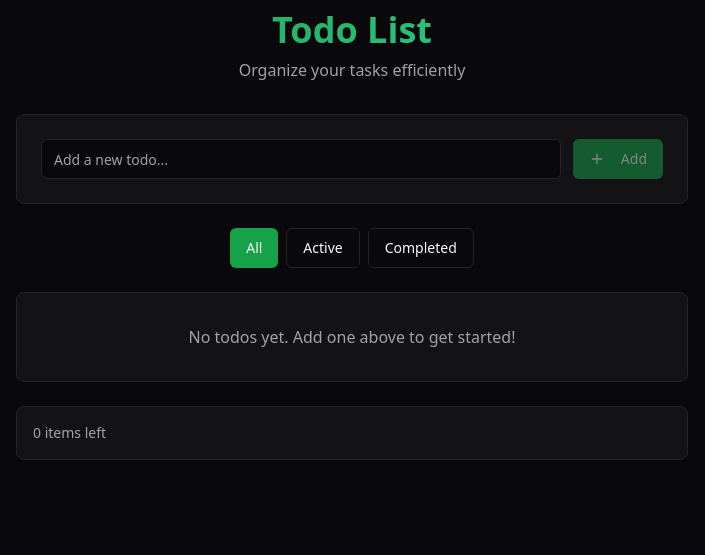
Test: TodoApp › should filter todos by status
Type "Active todo" into the field with placeholder "Add a new todo..." at (301, 159), box [41,139,561,179]
Then press Enter
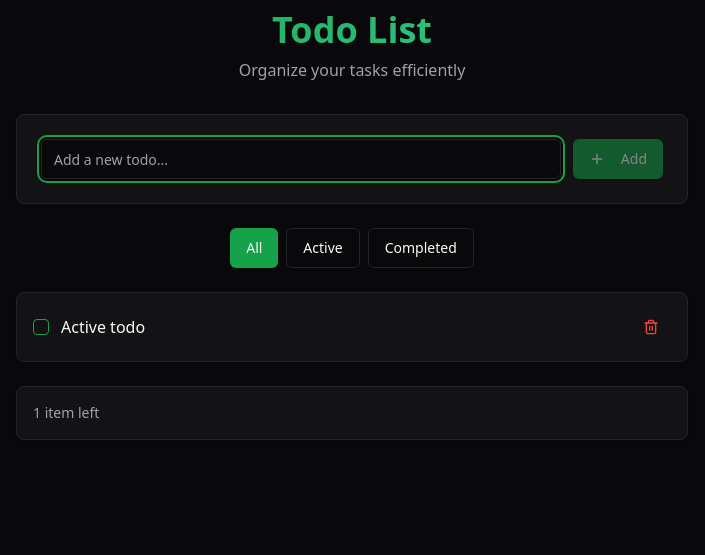
Type "Completed todo" into the field with placeholder "Add a new todo..." at (301, 159), box [41,139,561,179]
Then press Enter
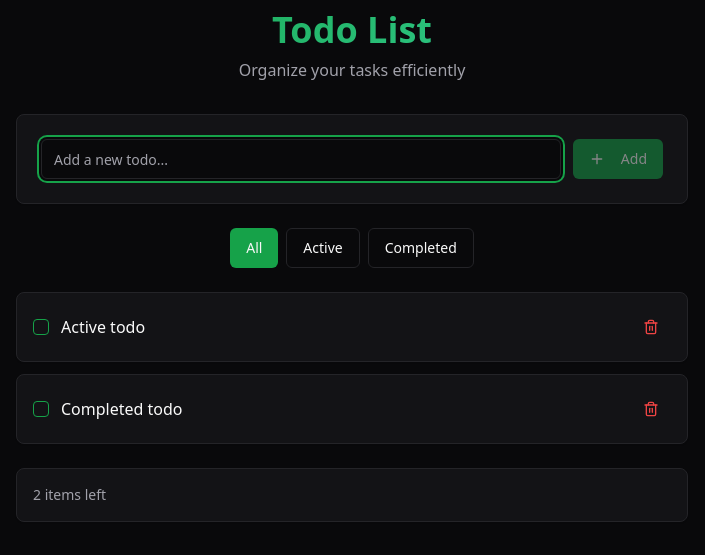
Click the checkbox next to "Completed todo" at (41, 409), box [33,401,49,417]
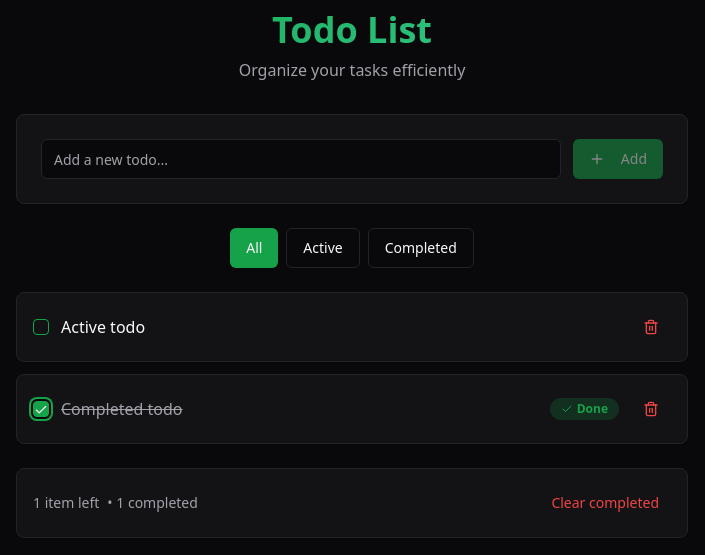
Click the button with test id "filter-active" at (323, 248), box [286,228,360,268]
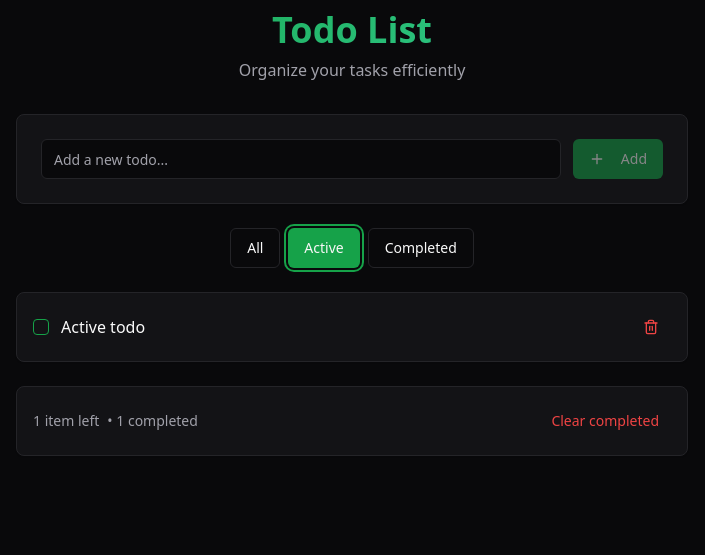
Result: the text "Active todo" is shown at [61,316,145,338]
Result: the text "Completed todo" is gone
Click the button with test id "filter-completed" at (421, 248), box [368,228,474,268]
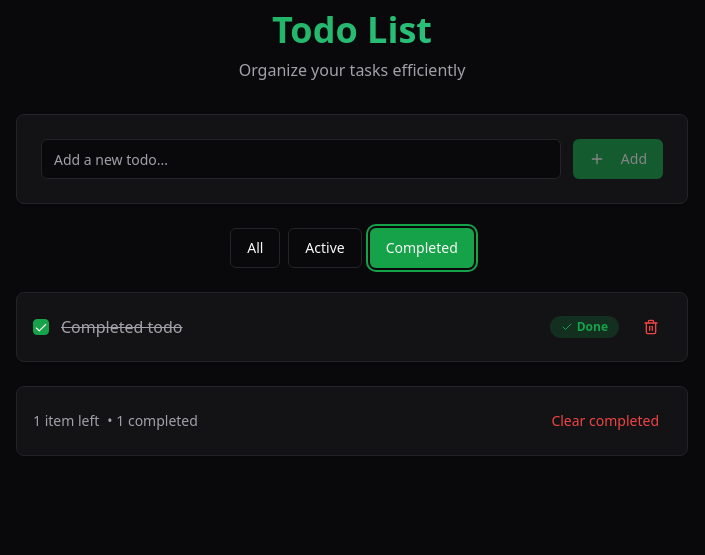
Result: the text "Active todo" is gone
Result: the text "Completed todo" is shown at [61,316,182,338]
